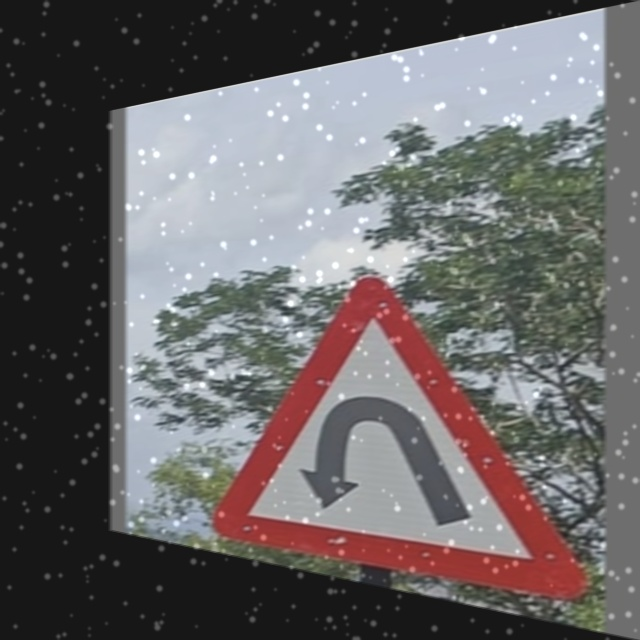Left_Hair_Pin_Bend: (212, 257, 593, 608)
